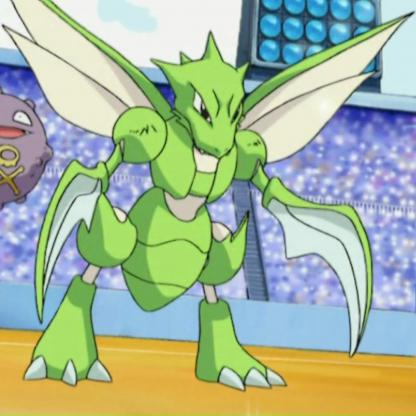Scyther: (9, 10, 416, 416)
